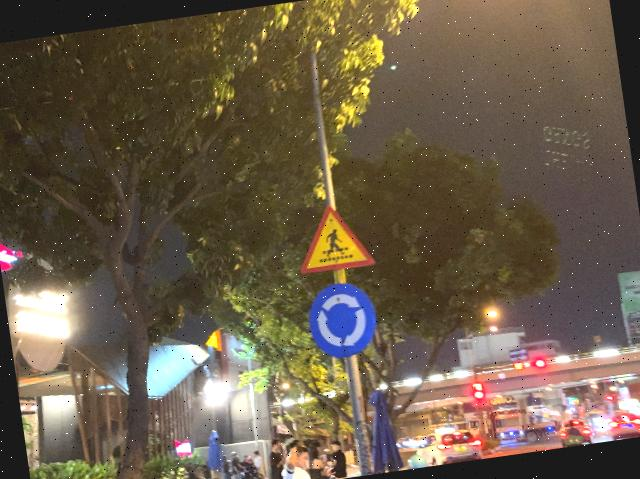duong-nguoi-di-bo-cat-ngang: (292, 198, 376, 274)
noi-giao-nhau-chay-theo-vong-xuyen: (305, 279, 381, 363)
